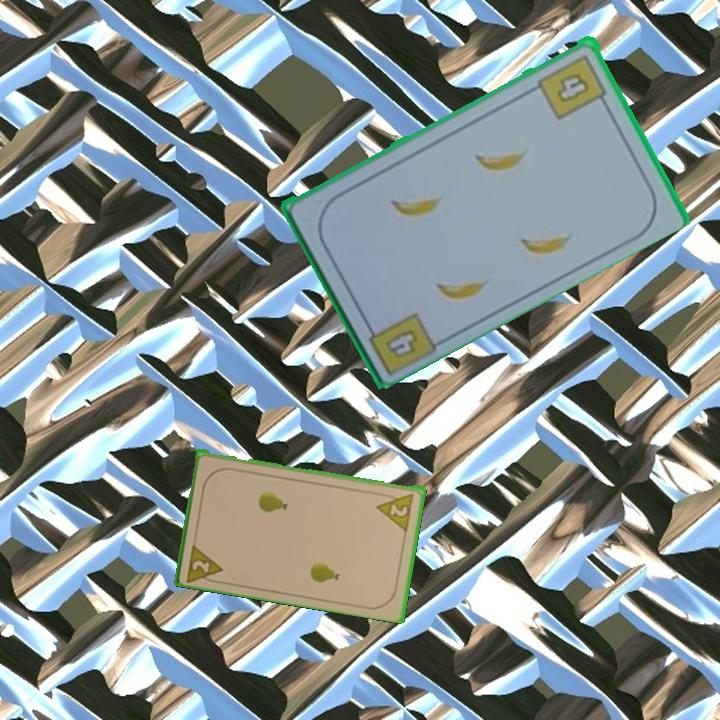2p: (183, 538, 226, 586), (373, 489, 417, 532)
4b: (535, 50, 611, 122), (360, 307, 439, 376)
